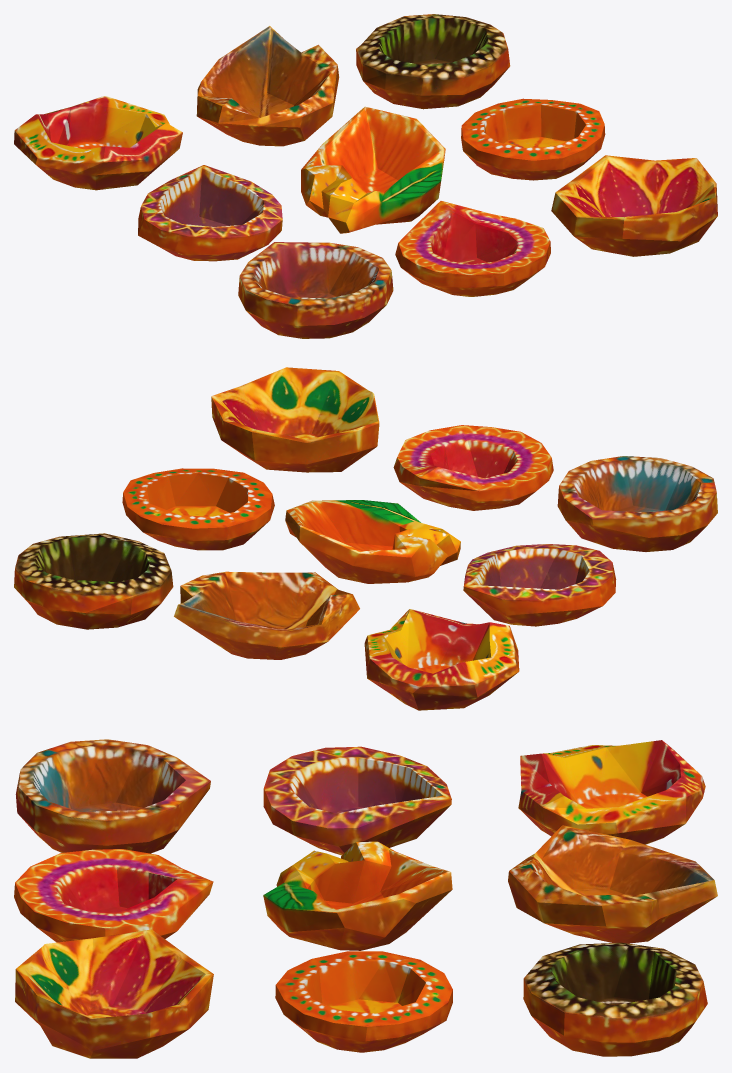
Rendered from 1-9 colorful diyas.glb.
3 renders of one model, top to bottom at view 1: azimuth 30°, elevation 25°; view 2: azimuth 150°, elevation 25°; view 3: azimuth 270°, elevation 25°, orthographic. The views are drawn at different scales.
Parts seen in each view (by area): view 1: mesh_000; view 2: mesh_000; view 3: mesh_000.
Part boxes in pixels (x1=…): mesh_000: x1=14, y1=14, x2=717, y2=338; mesh_000: x1=14, y1=367, x2=717, y2=710; mesh_000: x1=14, y1=739, x2=717, y2=1058.
Size of the model in its own units: 0.9219 by 0.1089 by 0.9507.
1 material, 1 textured.
